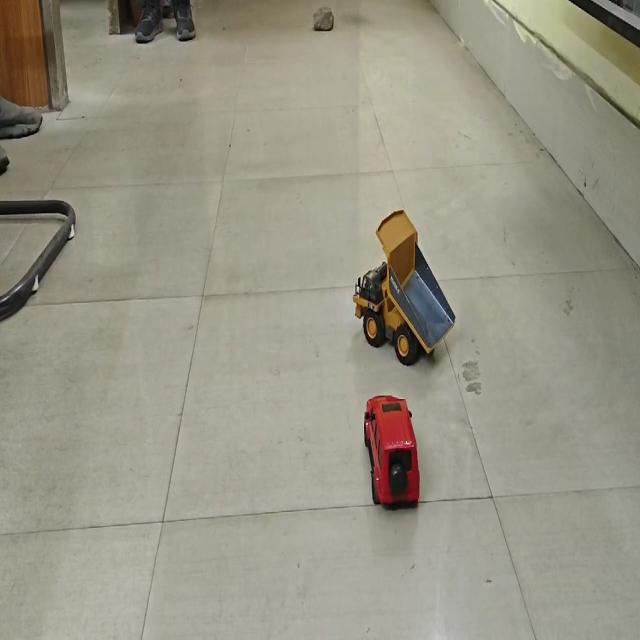dump_truck: (352, 204, 456, 359)
light_vehicle: (358, 391, 422, 510)
